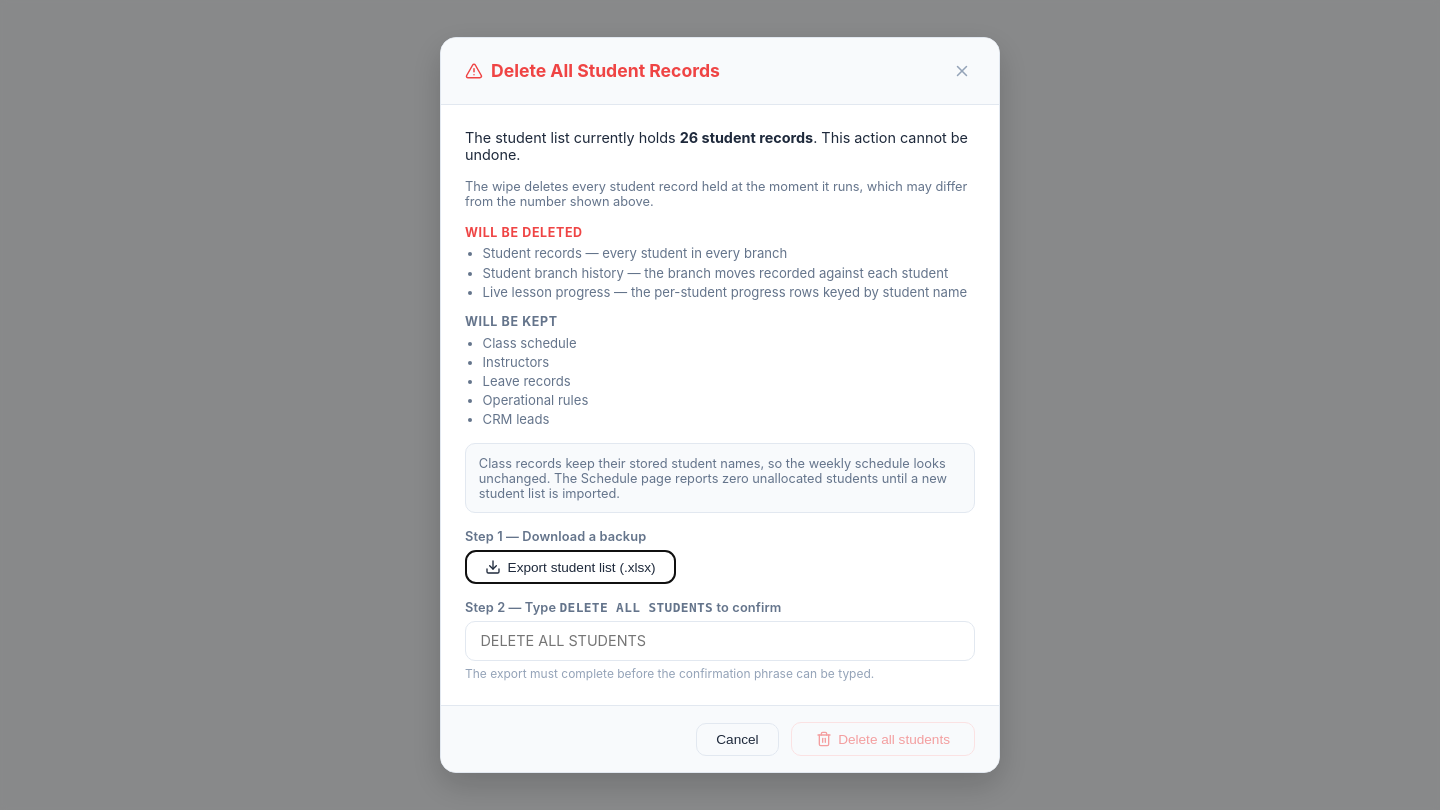
Scenario: WipeStudentsDialog export failures › treats an over-budget export as a timeout failure, and arms nothing
The image size is (1440, 810).
Click the button "Export student list (.xlsx)" at (570, 567), box [465,550,676,584]
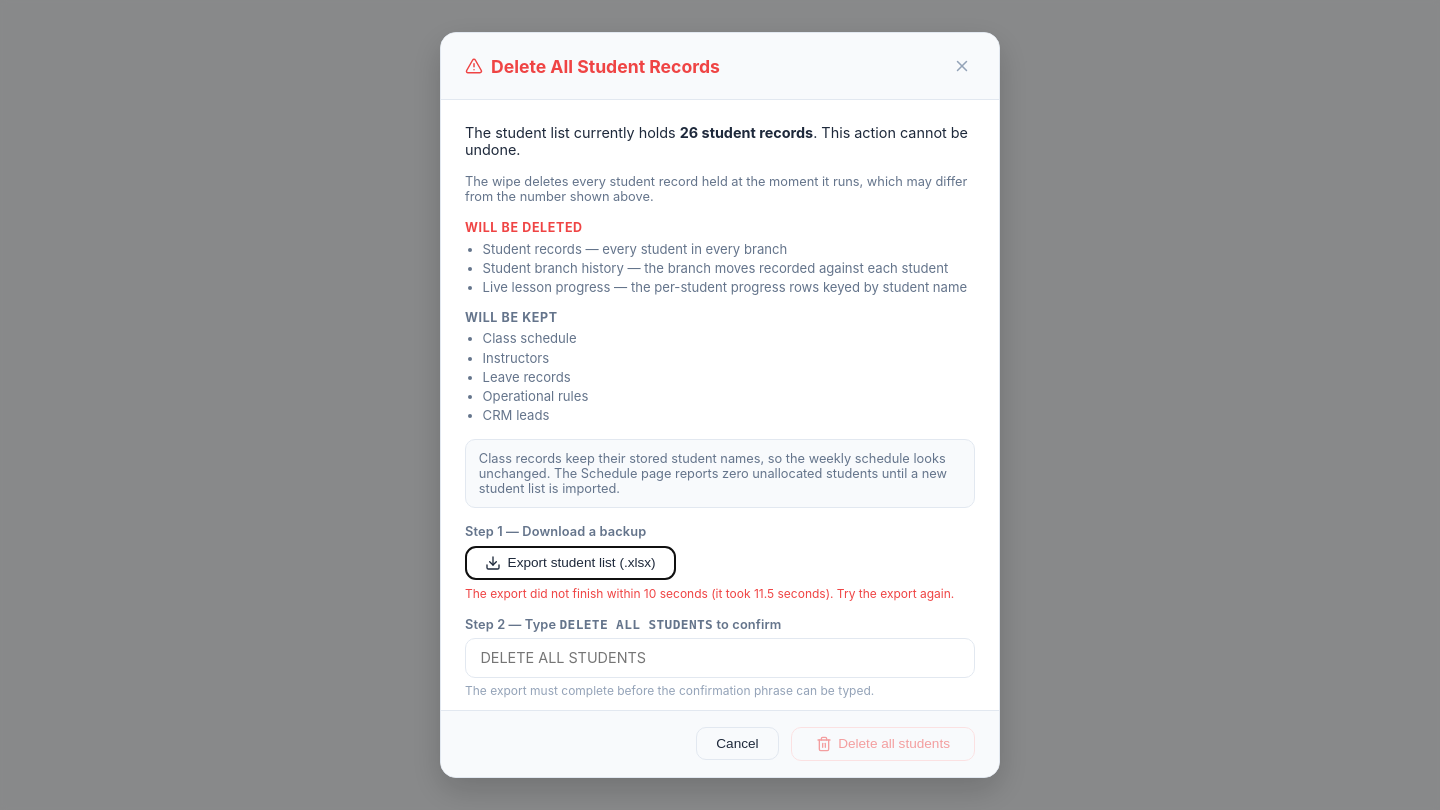
Expected: the field is disabled, [465,638,975,678]
Result: the message shows "11.5 seconds" at [465,586,954,601]
